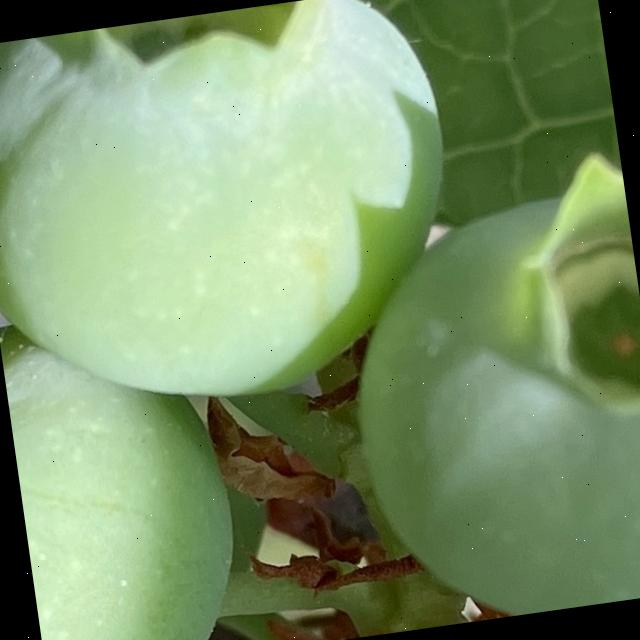Blueberries: (0, 0, 482, 434), (325, 150, 640, 633), (0, 294, 256, 640)
